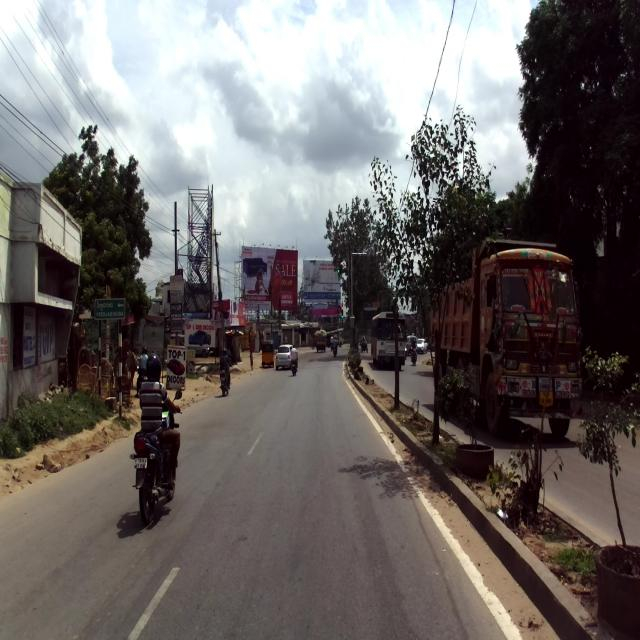motorcycle: (129, 388, 184, 522)
truck: (428, 235, 582, 440)
